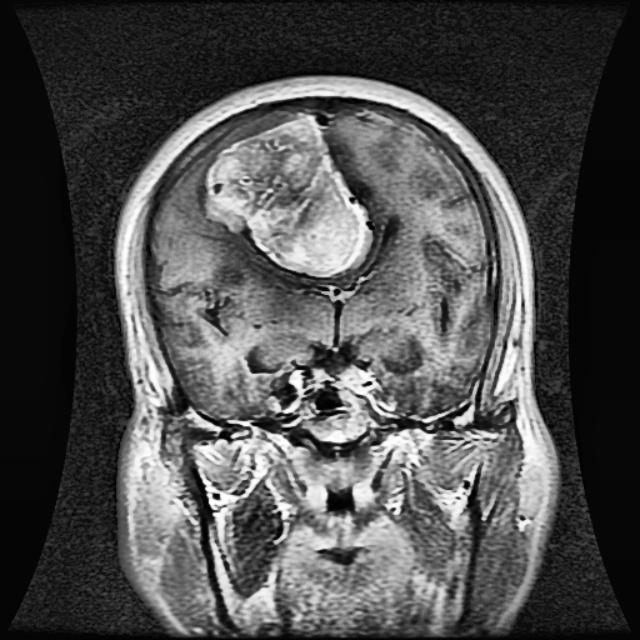Glioma: (207, 114, 370, 279)
